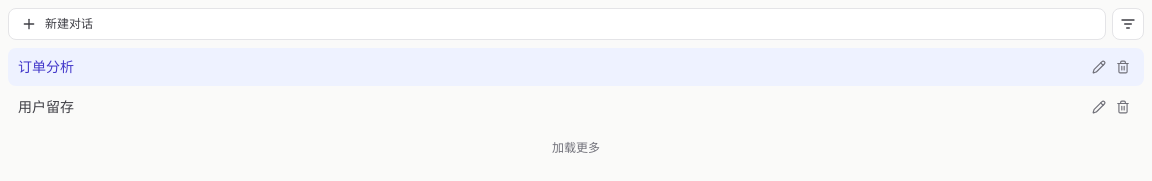
ConversationSidebar pagination and actions › loads the next cursor page on demand
Expected: the text "订单分析" is shown, [18,58,74,75]
Click the button "加载更多" at (576, 148), box [8,132,1144,164]
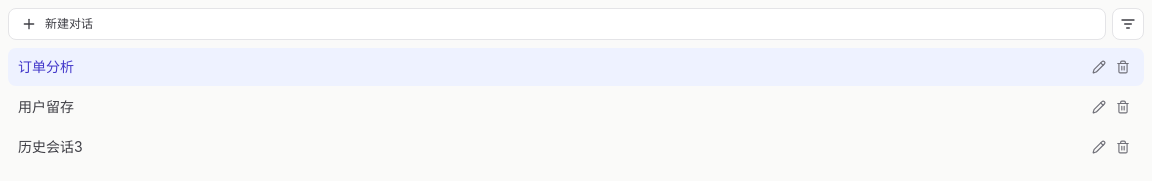
Expected: the text "历史会话3" is shown, [18,138,83,155]
Expected: the button "加载更多" is gone
